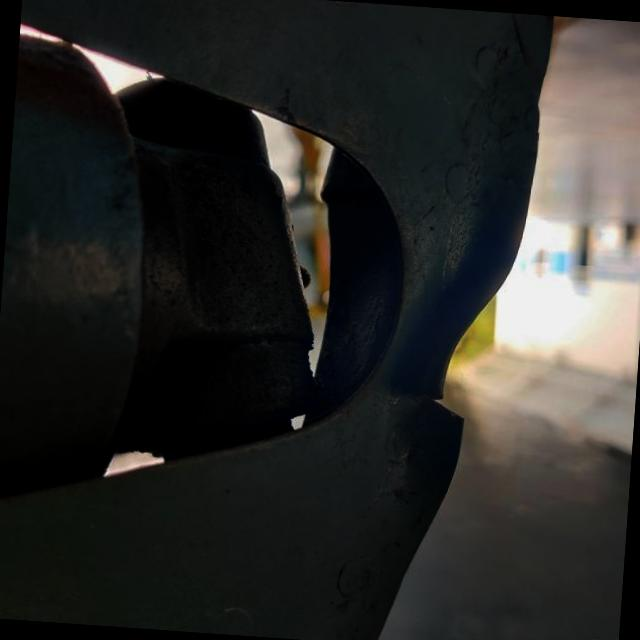crack: (398, 366, 492, 434)
